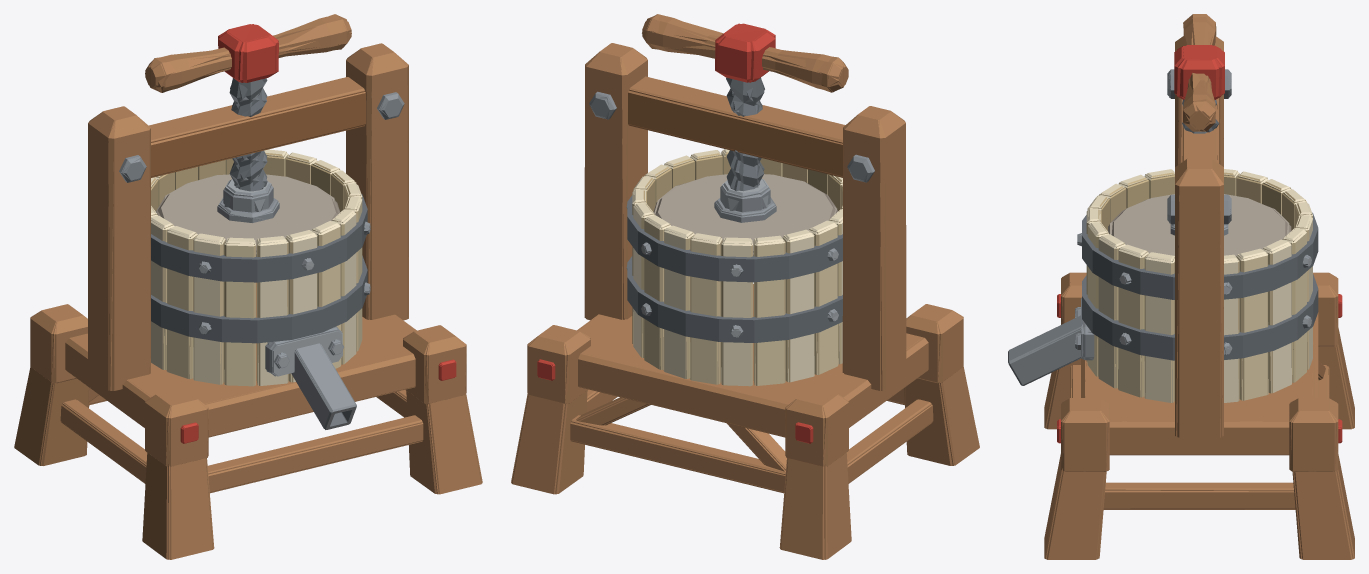
The model's file is FMS_Workshop_STA_05.fbx.
3 views of the same model, side by side, from view 1: azimuth 30°, elevation 25°; view 2: azimuth 150°, elevation 25°; view 3: azimuth 270°, elevation 25° (orthographic).
Visible parts, largest first — view 1: FMS_Workshop_STA_05_Frame, FMS_Workshop_STA_05_Basket, FMS_Workshop_STA_05_Frame_Low1, FMS_Workshop_STA_05_Plate, FMS_Workshop_STA_05_Basket_Low1, FMS_Workshop_STA_05_Screw, FMS_Workshop_STA_05_Screw_Low1, FMS_Workshop_STA_05_Plate_Low1; view 2: FMS_Workshop_STA_05_Frame, FMS_Workshop_STA_05_Basket, FMS_Workshop_STA_05_Frame_Low1, FMS_Workshop_STA_05_Plate, FMS_Workshop_STA_05_Basket_Low1, FMS_Workshop_STA_05_Screw, FMS_Workshop_STA_05_Screw_Low1, FMS_Workshop_STA_05_Plate_Low1; view 3: FMS_Workshop_STA_05_Frame, FMS_Workshop_STA_05_Basket, FMS_Workshop_STA_05_Frame_Low1, FMS_Workshop_STA_05_Basket_Low1, FMS_Workshop_STA_05_Plate, FMS_Workshop_STA_05_Screw, FMS_Workshop_STA_05_Screw_Low1.
Part boxes in pixels (<box>): FMS_Workshop_STA_05_Frame: <box>14,43,482,559</box>; FMS_Workshop_STA_05_Basket: <box>151,149,370,429</box>; FMS_Workshop_STA_05_Frame_Low1: <box>14,43,482,559</box>; FMS_Workshop_STA_05_Plate: <box>158,174,340,256</box>; FMS_Workshop_STA_05_Basket_Low1: <box>151,151,370,429</box>; FMS_Workshop_STA_05_Screw: <box>145,16,351,191</box>; FMS_Workshop_STA_05_Screw_Low1: <box>145,14,351,187</box>; FMS_Workshop_STA_05_Plate_Low1: <box>156,175,339,252</box>; FMS_Workshop_STA_05_Frame: <box>511,43,979,559</box>; FMS_Workshop_STA_05_Basket: <box>626,149,842,386</box>; FMS_Workshop_STA_05_Frame_Low1: <box>511,43,979,559</box>; FMS_Workshop_STA_05_Plate: <box>653,174,838,256</box>; FMS_Workshop_STA_05_Basket_Low1: <box>627,149,842,385</box>; FMS_Workshop_STA_05_Screw: <box>642,14,848,191</box>; FMS_Workshop_STA_05_Screw_Low1: <box>642,14,844,191</box>; FMS_Workshop_STA_05_Plate_Low1: <box>654,178,837,252</box>; FMS_Workshop_STA_05_Frame: <box>1044,36,1354,559</box>; FMS_Workshop_STA_05_Basket: <box>1008,169,1318,402</box>; FMS_Workshop_STA_05_Frame_Low1: <box>1045,69,1353,559</box>; FMS_Workshop_STA_05_Basket_Low1: <box>1008,169,1318,402</box>; FMS_Workshop_STA_05_Plate: <box>1108,194,1291,256</box>; FMS_Workshop_STA_05_Screw: <box>1174,16,1224,133</box>; FMS_Workshop_STA_05_Screw_Low1: <box>1177,14,1221,133</box>.
Bounding box in the file's own units: 1.23 × 1.6 × 1.17.
